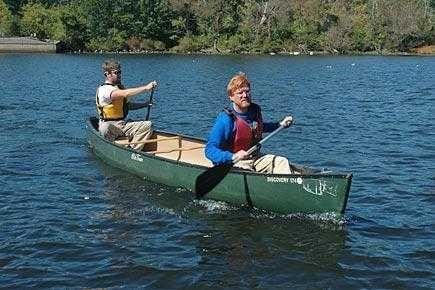kayak: (86, 116, 352, 219)
